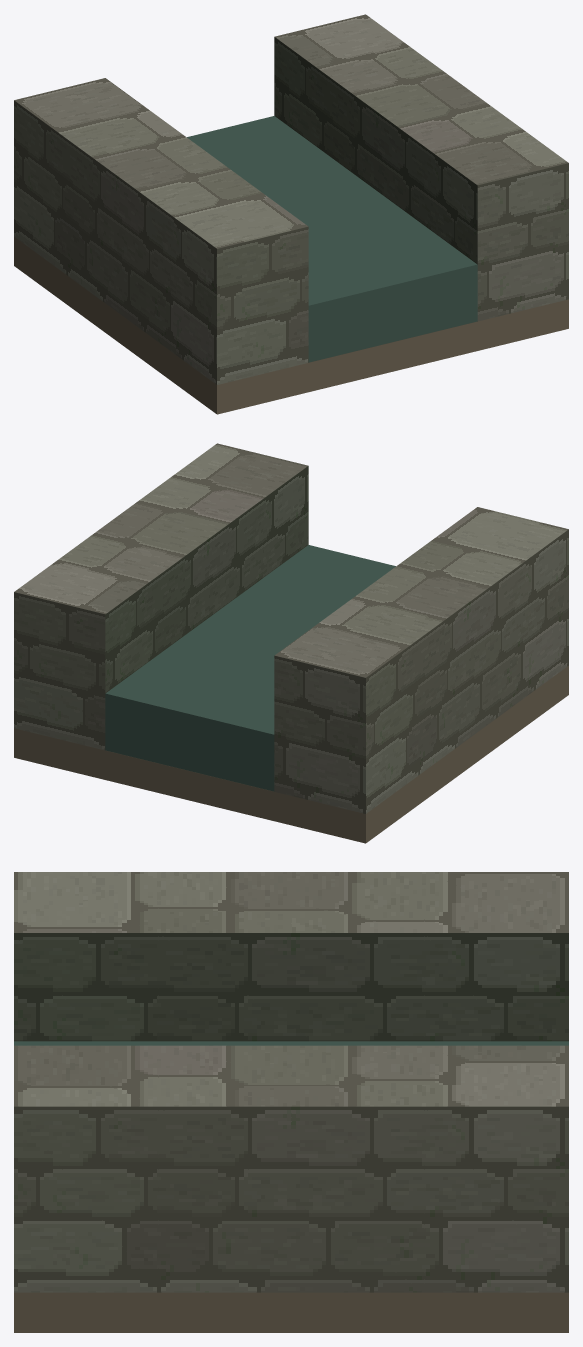
Rendered from straight_race.glb.
The picture shows the model from 3 angles, top to bottom: view 1: azimuth 30°, elevation 25°; view 2: azimuth 150°, elevation 25°; view 3: azimuth 270°, elevation 25°; orthographic projection. The views are drawn at different scales.
Visible parts, largest first — view 1: Straight race; view 2: Straight race; view 3: Straight race.
Boxes of the visible parts, x1=… form: Straight race: x1=14, y1=14, x2=568, y2=414; Straight race: x1=14, y1=443, x2=568, y2=843; Straight race: x1=14, y1=872, x2=568, y2=1332.
Bounding box in the file's own units: 2 × 0.9 × 2.
6 materials, 3 textured.
